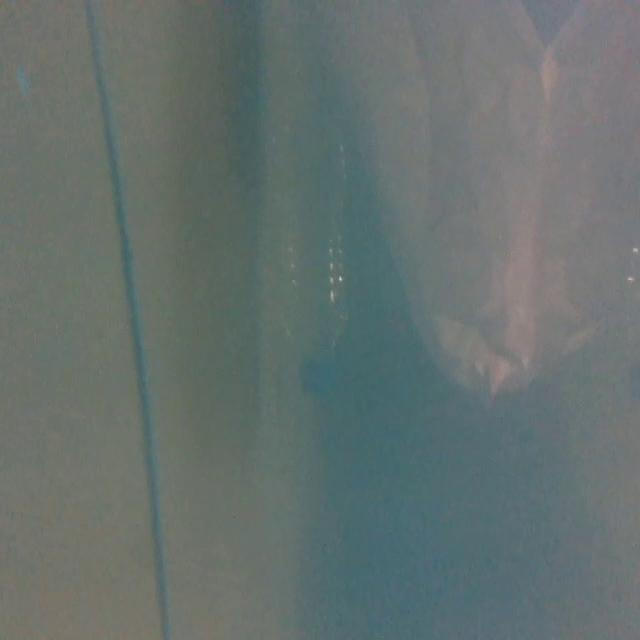plastic bags: (324, 2, 634, 409)
plastic bottle: (270, 142, 352, 398)
